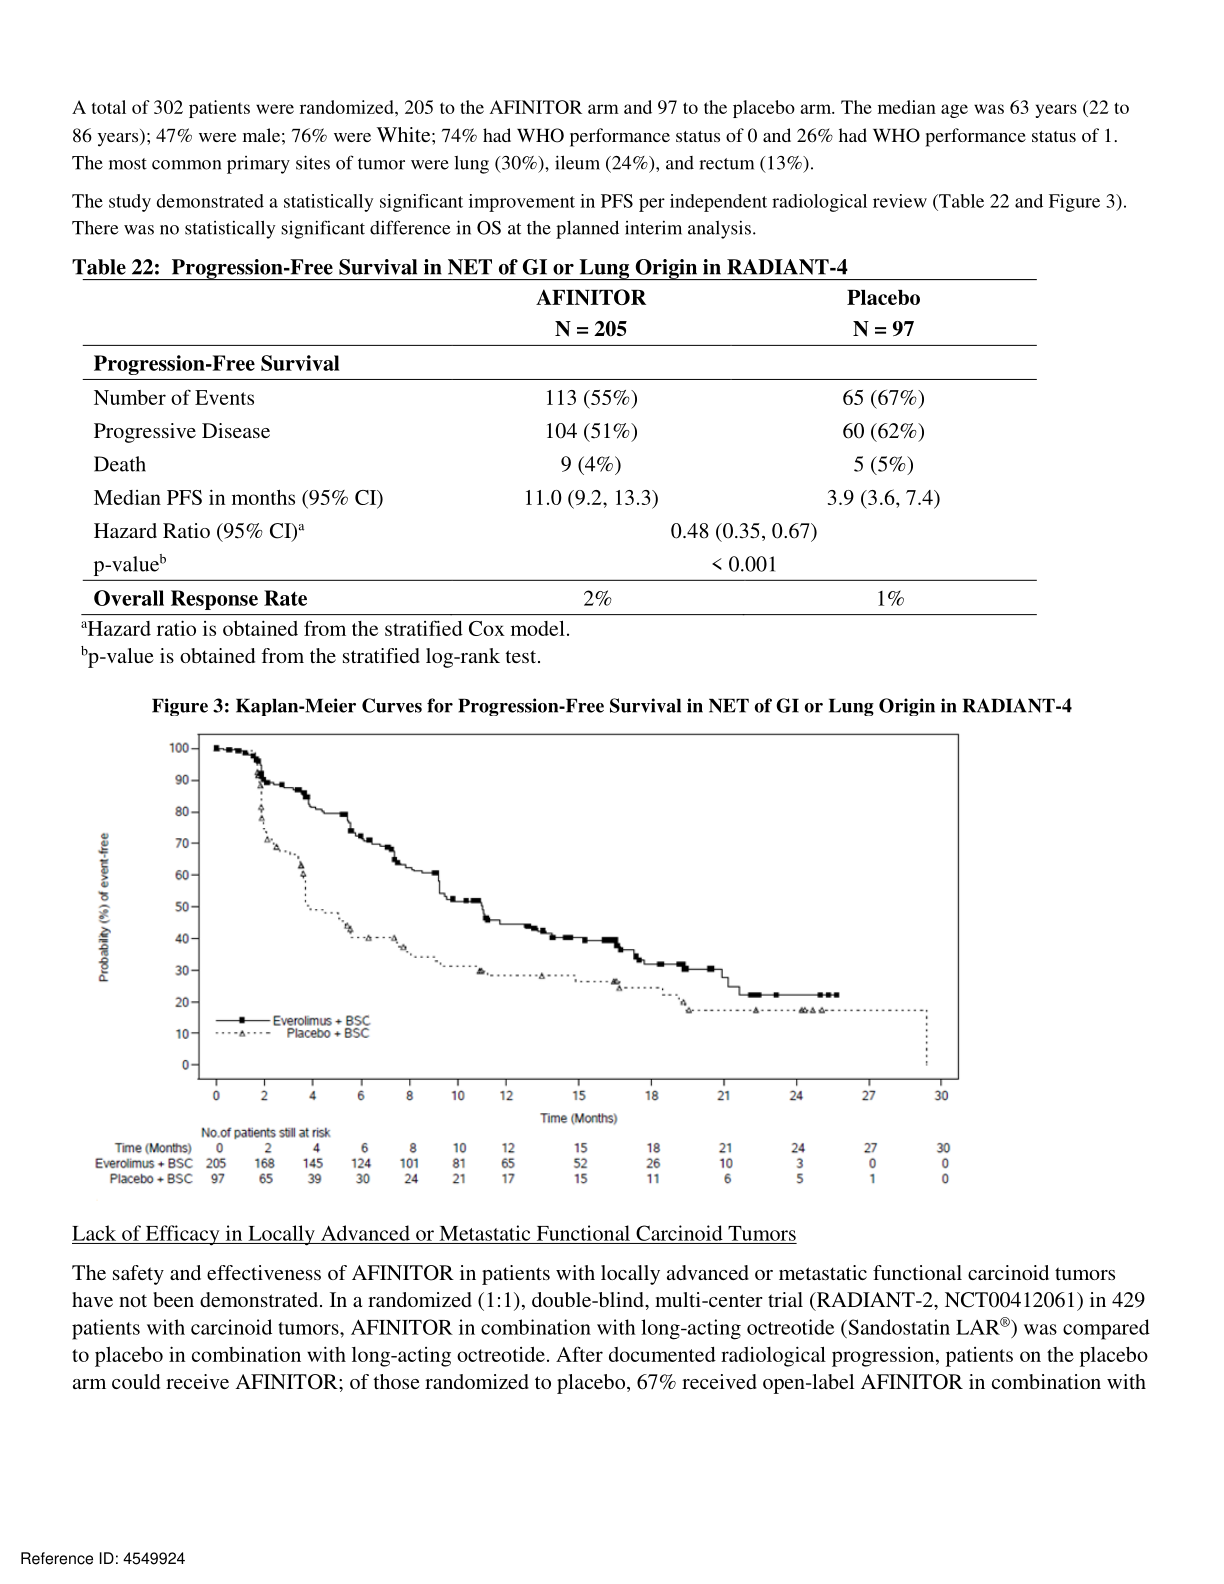nolines: (93, 1128, 951, 1188)
partial_lined_merged_cells: (81, 278, 1038, 616)
